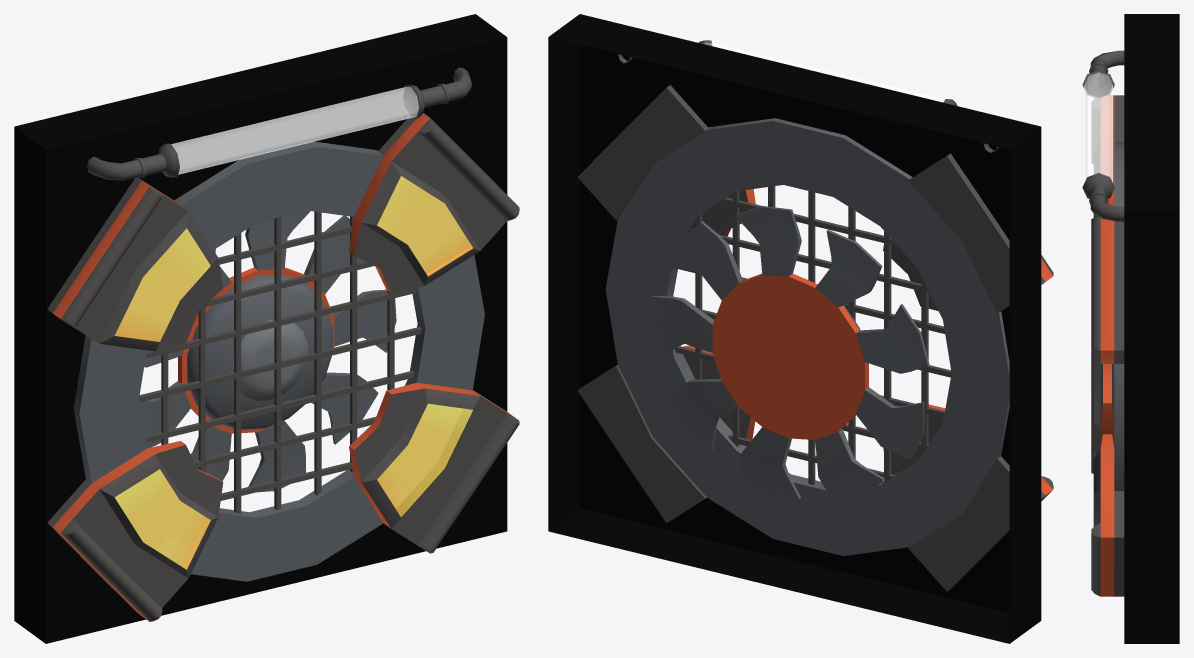
3 views of the same model, side by side, from view 1: azimuth 30°, elevation 25°; view 2: azimuth 150°, elevation 25°; view 3: azimuth 270°, elevation 25° (orthographic). The views are drawn at different scales.
Parts seen in each view (by area): view 1: Plane001, Fan_Exterior_Base 2_0, Fan_Exterior_Base 1_0, Fann_Base 1_0, Fan_Exterior_Panel Lights_0, Fan_Exterior_Overhead Light_0, Fan_Exterior_Fan Border_0, Fann_Fan Centre_0, Fann_Fan Border_0; view 2: Plane001, Fan_Exterior_Base 1_0, Fan_Exterior_Base 2_0, Fann_Base 1_0, Fann_Fan Border_0, Fan_Exterior_Overhead Light_0, Fan_Exterior_Fan Border_0; view 3: Plane001, Fan_Exterior_Base 2_0, Fan_Exterior_Fan Border_0, Fan_Exterior_Overhead Light_0, Fan_Exterior_Base 1_0, Fan_Exterior_Fan Centre_0.
Boxes of the visible parts, x1,y1,x2,y2 form: Plane001: [14, 14, 507, 643]; Fan_Exterior_Base 2_0: [47, 67, 519, 621]; Fan_Exterior_Base 1_0: [73, 87, 484, 581]; Fann_Base 1_0: [139, 210, 396, 492]; Fan_Exterior_Panel Lights_0: [114, 176, 472, 569]; Fan_Exterior_Overhead Light_0: [171, 87, 418, 174]; Fan_Exterior_Fan Border_0: [53, 113, 516, 621]; Fann_Fan Centre_0: [232, 320, 307, 400]; Fann_Fan Border_0: [178, 267, 334, 433]; Plane001: [548, 14, 1041, 643]; Fan_Exterior_Base 1_0: [605, 42, 1009, 555]; Fan_Exterior_Base 2_0: [577, 40, 1053, 591]; Fann_Base 1_0: [650, 206, 929, 505]; Fann_Fan Border_0: [712, 273, 868, 439]; Fan_Exterior_Overhead Light_0: [705, 42, 944, 102]; Fan_Exterior_Fan Border_0: [682, 189, 1053, 501]; Plane001: [1124, 14, 1179, 643]; Fan_Exterior_Base 2_0: [1082, 50, 1124, 596]; Fan_Exterior_Fan Border_0: [1100, 95, 1114, 596]; Fan_Exterior_Overhead Light_0: [1084, 72, 1112, 182]; Fan_Exterior_Base 1_0: [1086, 72, 1124, 490]; Fan_Exterior_Fan Centre_0: [1082, 70, 1114, 99].
Size of the model in its own units: 169 by 173 by 35.16.
